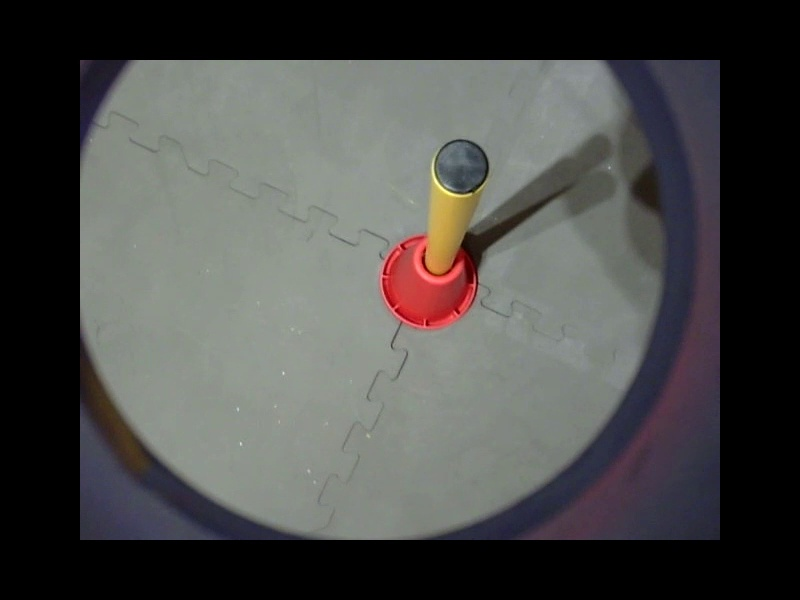tip: (424, 135, 498, 206)
